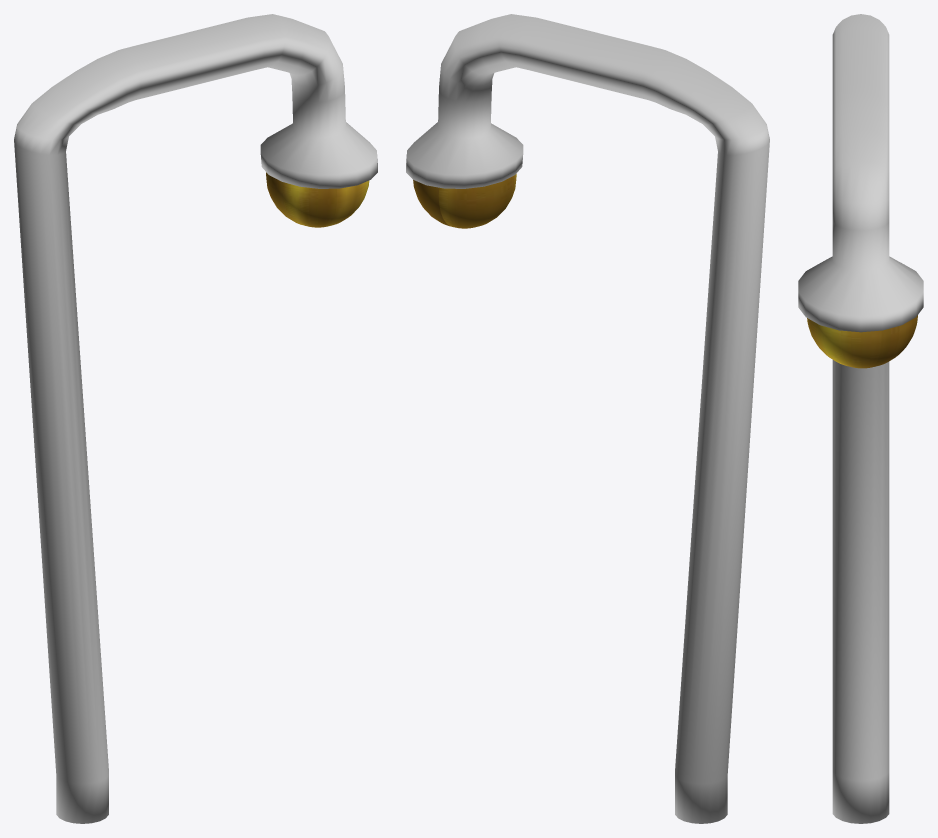
File: lamp.obj
3 renders of one model, left to right at view 1: azimuth 30°, elevation 25°; view 2: azimuth 150°, elevation 25°; view 3: azimuth 270°, elevation 25°, orthographic. The views are drawn at different scales.
Parts seen in each view (by area): view 1: Cylinder001, Sphere001; view 2: Cylinder001, Sphere001; view 3: Cylinder001, Sphere001.
Boxes of the visible parts, x1,y1,x2,y2 form: Cylinder001: (14,14,377,823); Sphere001: (266,172,369,227); Cylinder001: (406,14,769,823); Sphere001: (413,174,516,228); Cylinder001: (798,14,923,823); Sphere001: (807,315,917,368).
Size of the model in its own units: 43.62 by 88.66 by 12.46.
